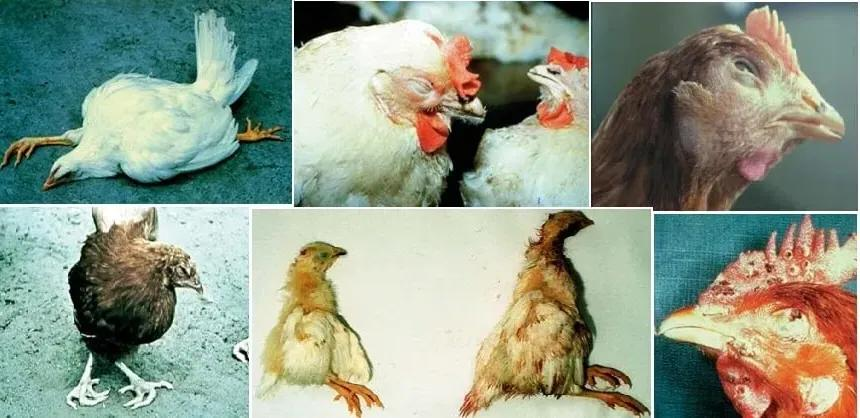AbNormal: (9, 7, 286, 207), (614, 6, 850, 214), (13, 210, 247, 411), (438, 211, 651, 418), (299, 19, 496, 208), (674, 222, 860, 418), (254, 229, 389, 418), (483, 30, 599, 212)
